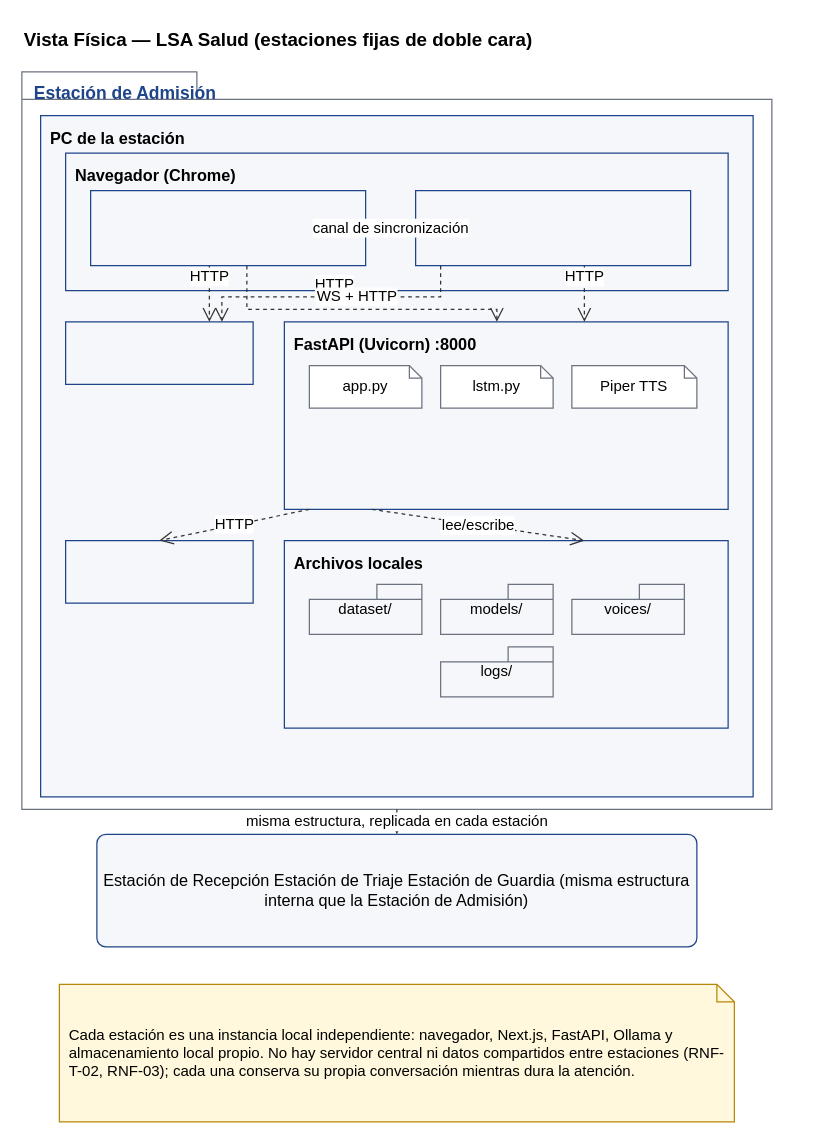
This 819x1144 diagram has some shape labels left out. The centre of each missing label's shape, as x and y in pixels:
Estación Paciente /paciente: (x=227, y=227)
Estación Recepción /recepcion: (x=552, y=227)
Next.js :3000: (x=158, y=352)
Ollama :11434: (x=158, y=571)
